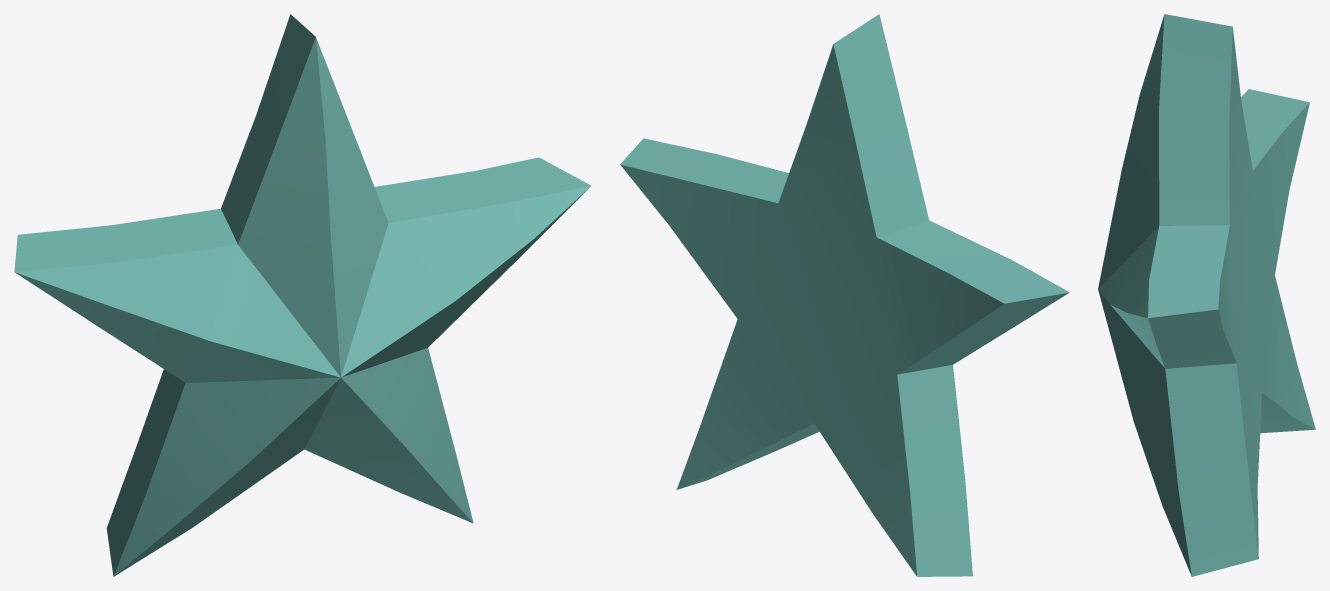
Rendered from TL1_Frame_Star.001 3.glb.
3 views of the same model, side by side, from view 1: azimuth 30°, elevation 25°; view 2: azimuth 150°, elevation 25°; view 3: azimuth 270°, elevation 25° (orthographic). The views are drawn at different scales.
Parts seen in each view (by area): view 1: TL1_Frame_Star.001; view 2: TL1_Frame_Star.001; view 3: TL1_Frame_Star.001.
Part boxes in pixels (bbox=[...]): TL1_Frame_Star.001: bbox=[14, 14, 591, 576]; TL1_Frame_Star.001: bbox=[620, 14, 1069, 576]; TL1_Frame_Star.001: bbox=[1098, 14, 1315, 576].
Size of the model in its own units: 0.5648 by 0.5592 by 0.2269.
